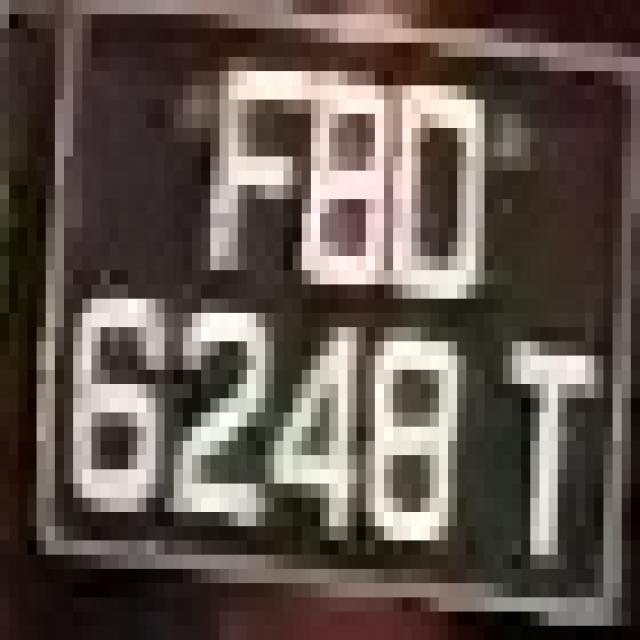2: (156, 284, 265, 540)
4: (265, 298, 357, 554)
6: (55, 256, 174, 526)
8: (357, 284, 466, 598)
B: (284, 42, 402, 298)
D: (375, 42, 494, 298)
F: (192, 14, 302, 270)
T: (476, 299, 612, 597)
